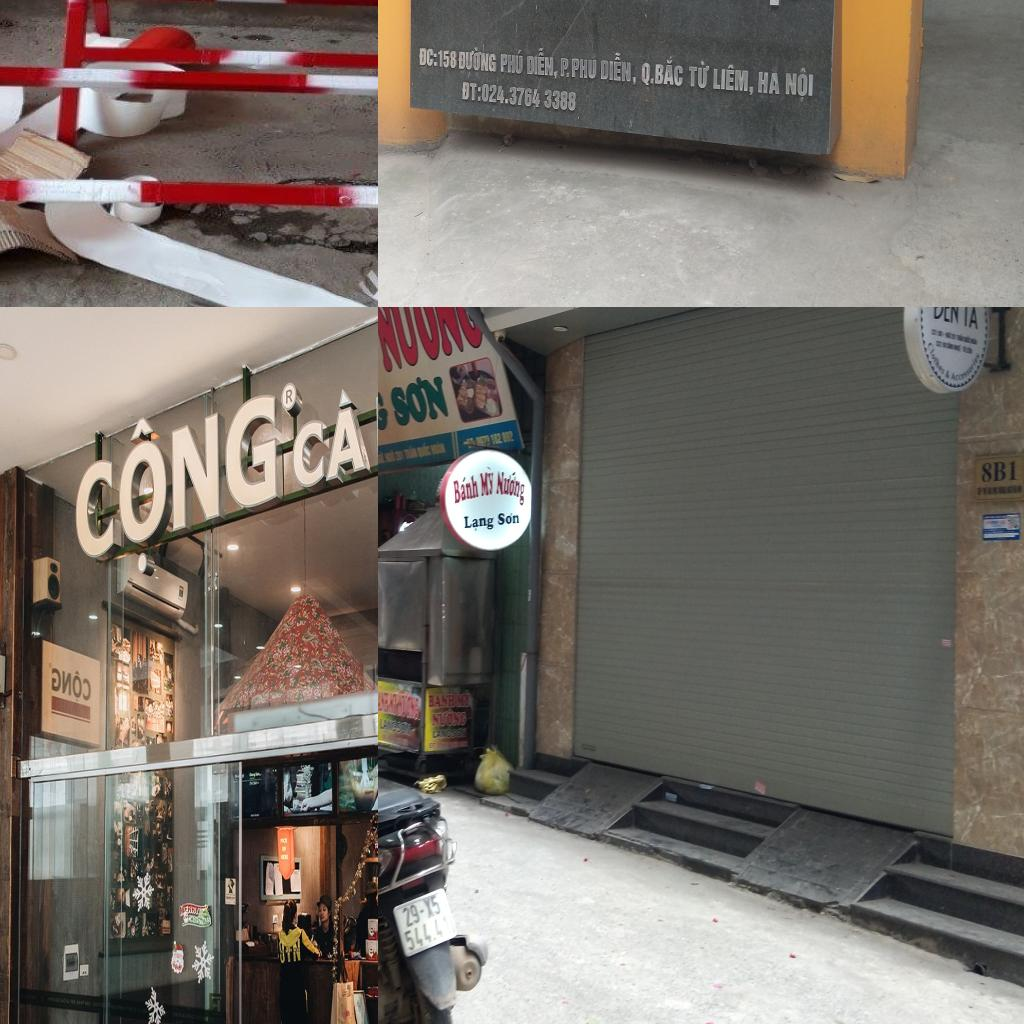text: (70, 364, 280, 590), (292, 380, 372, 497), (378, 307, 468, 375), (389, 367, 450, 428), (481, 83, 577, 112), (402, 916, 446, 951), (641, 54, 684, 89), (400, 894, 444, 928), (599, 50, 637, 86), (712, 64, 754, 96), (496, 466, 526, 508), (951, 353, 984, 389), (526, 47, 558, 80), (785, 67, 814, 102), (458, 47, 496, 73), (980, 460, 1018, 484), (453, 473, 480, 505), (560, 58, 598, 80), (924, 341, 947, 377), (396, 689, 420, 721), (433, 706, 467, 728), (688, 58, 710, 90), (499, 50, 523, 76), (463, 512, 494, 532), (757, 71, 780, 95), (931, 307, 960, 325), (478, 466, 494, 498), (428, 691, 456, 708), (961, 307, 979, 331), (418, 48, 438, 68), (461, 82, 481, 102), (438, 49, 457, 69), (378, 684, 390, 714), (388, 687, 400, 716), (378, 718, 398, 735), (497, 512, 520, 526), (180, 904, 201, 918), (417, 442, 432, 460), (457, 689, 471, 708), (430, 440, 447, 455), (187, 916, 212, 926), (403, 445, 419, 460), (432, 730, 452, 742), (396, 722, 412, 736), (285, 388, 294, 406), (452, 728, 467, 738), (378, 450, 386, 464), (280, 837, 289, 844), (280, 854, 290, 860), (92, 1002, 100, 1008), (282, 846, 287, 852)
